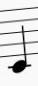LC: (5, 7, 32, 75)
